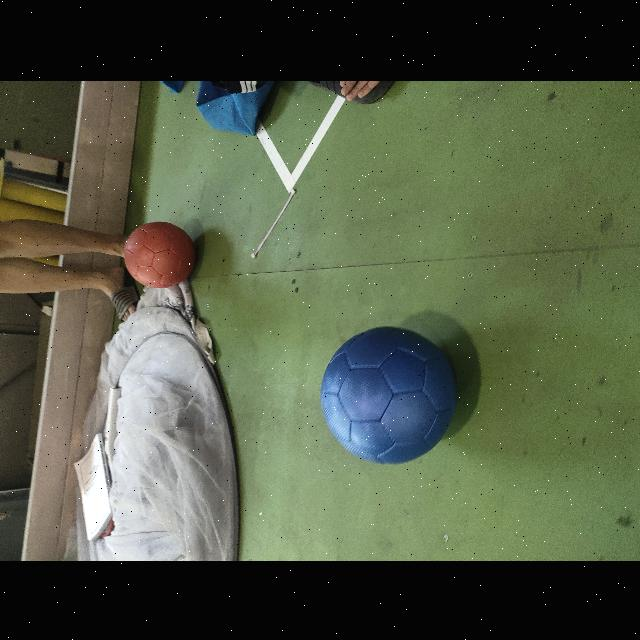B: (320, 325, 462, 464)
R: (121, 220, 199, 288)
